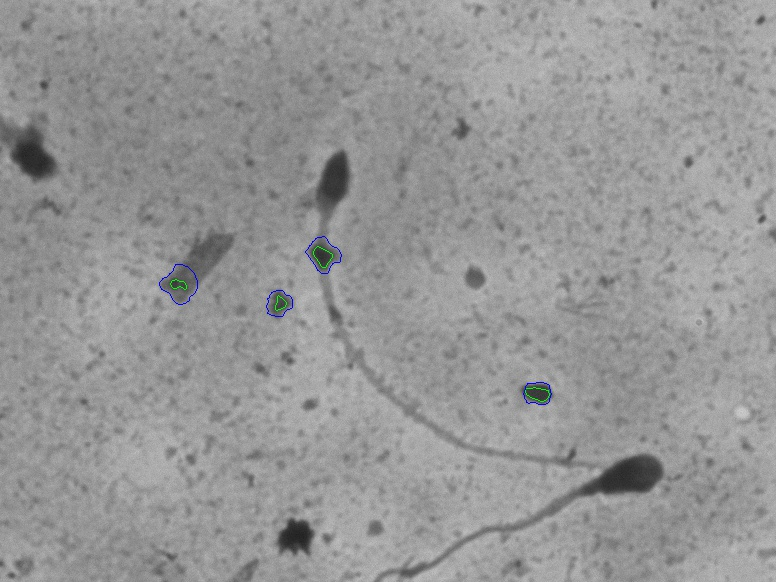Abnormal: (284, 130, 584, 490), (378, 426, 691, 556)
